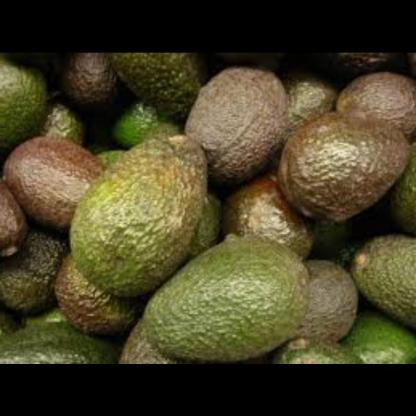avocado: (72, 111, 225, 289), (112, 232, 315, 355), (262, 108, 404, 216), (192, 64, 286, 184), (9, 137, 107, 222), (1, 223, 69, 327), (354, 220, 416, 331), (330, 61, 416, 128), (0, 325, 108, 363), (1, 56, 48, 138), (51, 52, 126, 102), (124, 51, 188, 106), (283, 68, 329, 140)
